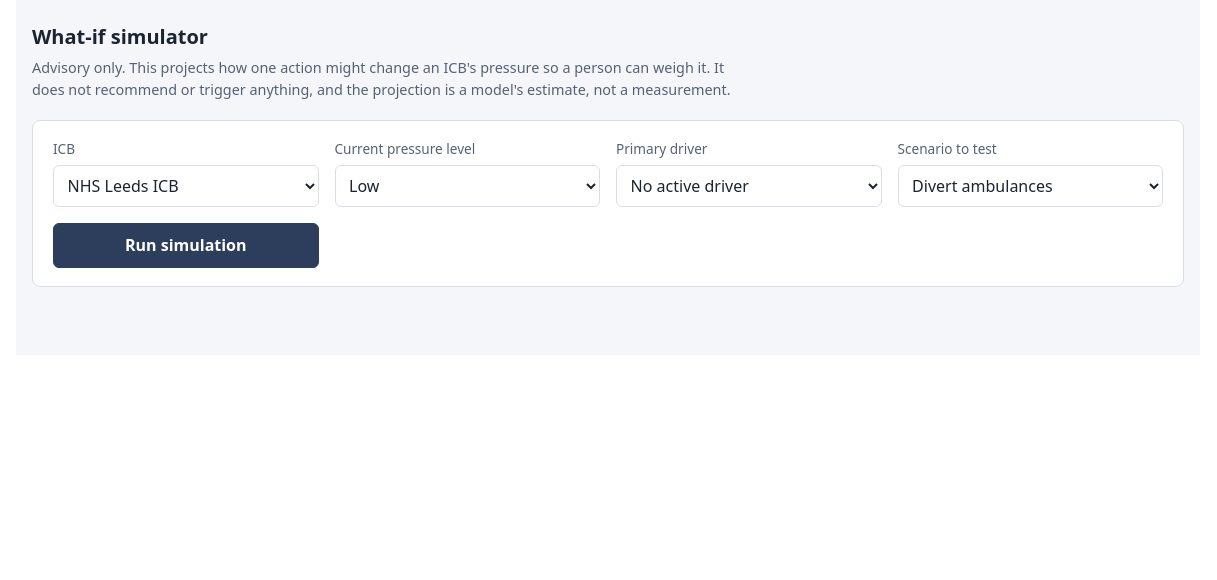
Test case: SimulatorPage › concurrency: while a request runs the button is disabled, so a double click sends one request
The image size is (1217, 580).
Click the button "Run simulation".
click(186, 245)  # box [53, 223, 318, 268]
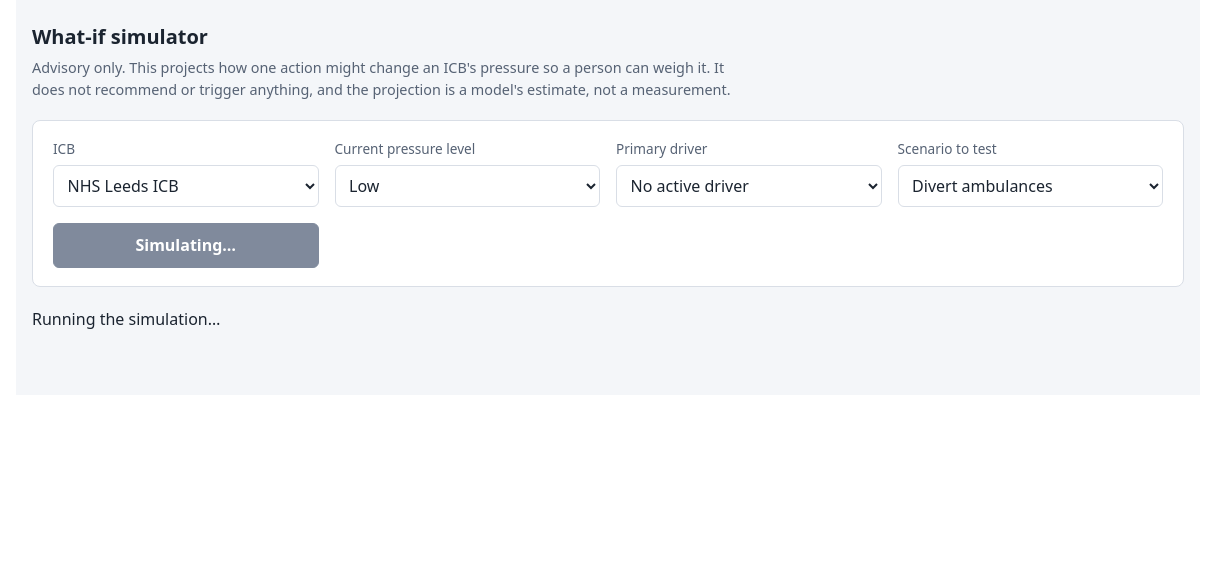
expect the button "Simulating…" is disabled: met, box [53, 223, 318, 268]
Submit the form "Simulating", box [32, 120, 1184, 287]
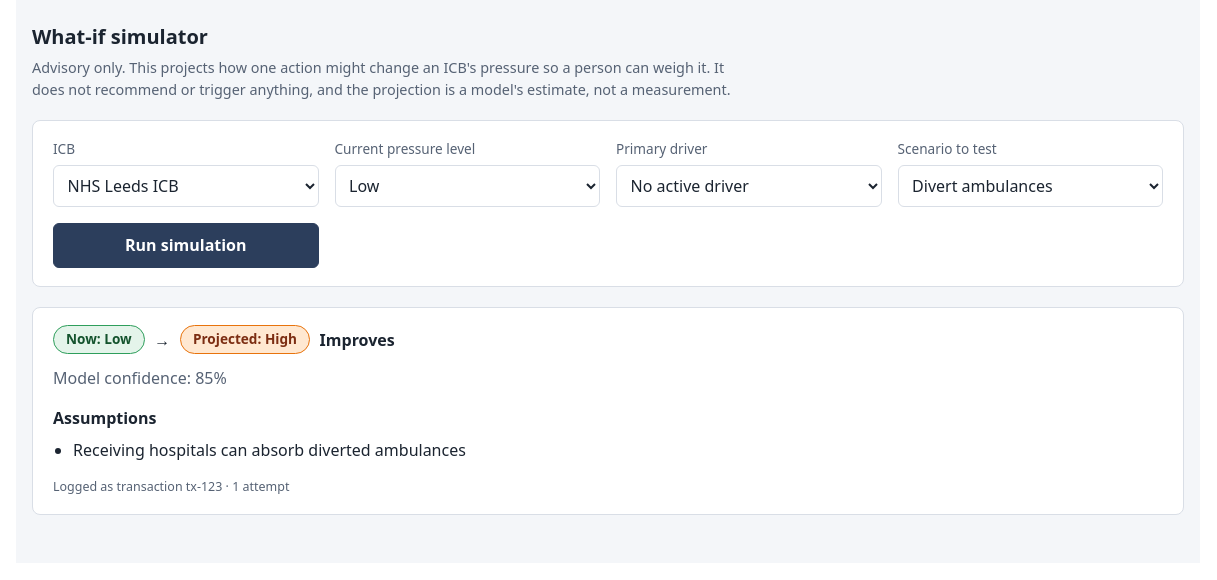
expect the text "Projected: High" is shown: met, box [180, 325, 310, 354]
